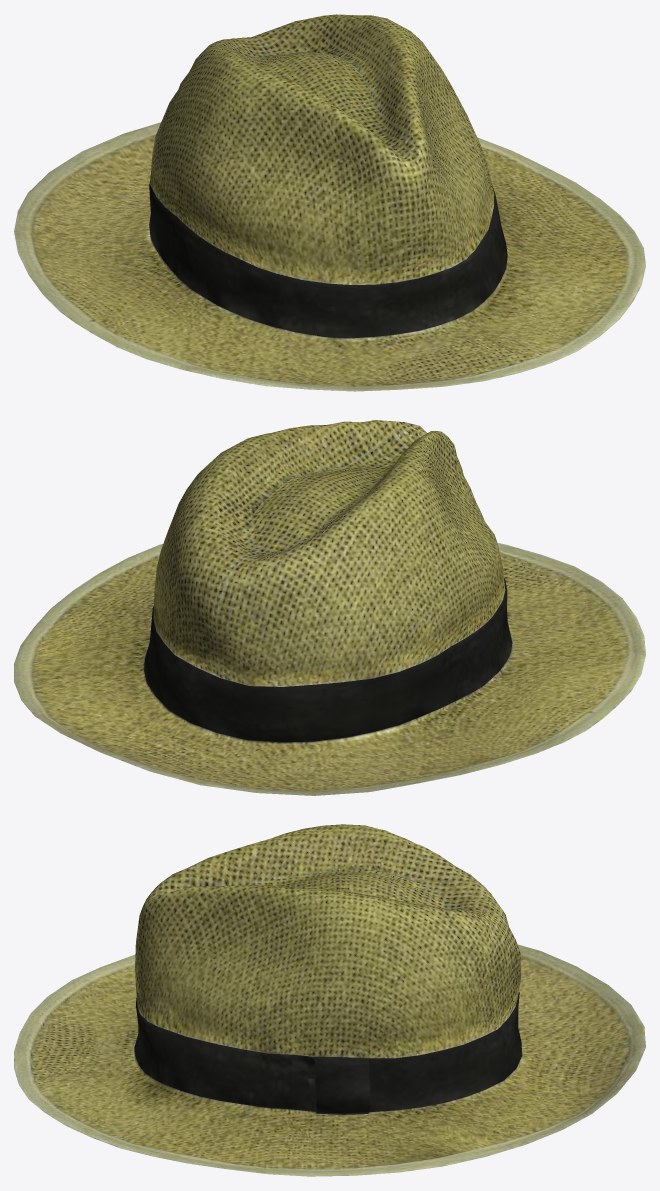
File: hat_straw.glb
3 views of the same model, one above another, from view 1: azimuth 30°, elevation 25°; view 2: azimuth 150°, elevation 25°; view 3: azimuth 270°, elevation 25° (orthographic). The views are drawn at different scales.
Visible parts, largest first — view 1: hat_straw; view 2: hat_straw; view 3: hat_straw.
Part boxes in pixels (x1,y1,x2,y2): hat_straw: (14,14,645,391); hat_straw: (14,420,645,795); hat_straw: (14,824,645,1176).
Size of the model in its own units: 0.3275 by 0.125 by 0.3592.
Materials: 1 (1 with a texture image).
